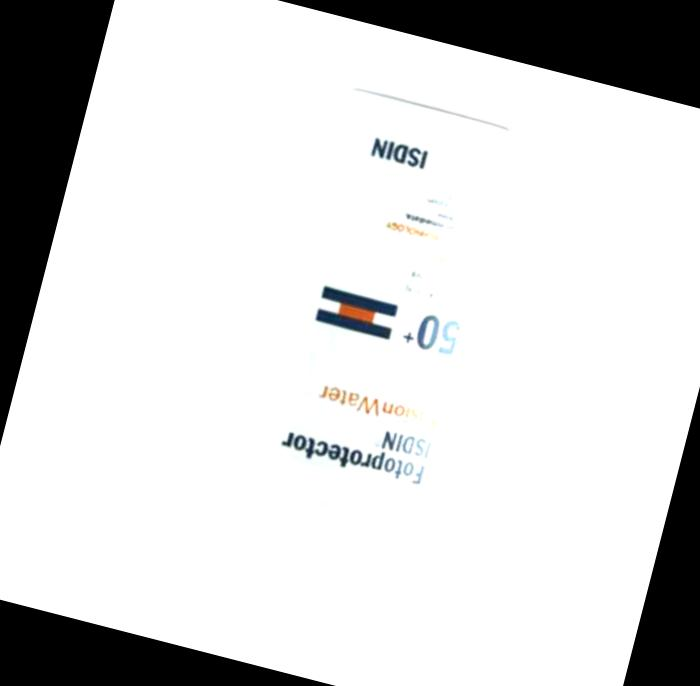cosmetic: (190, 75, 541, 630)
